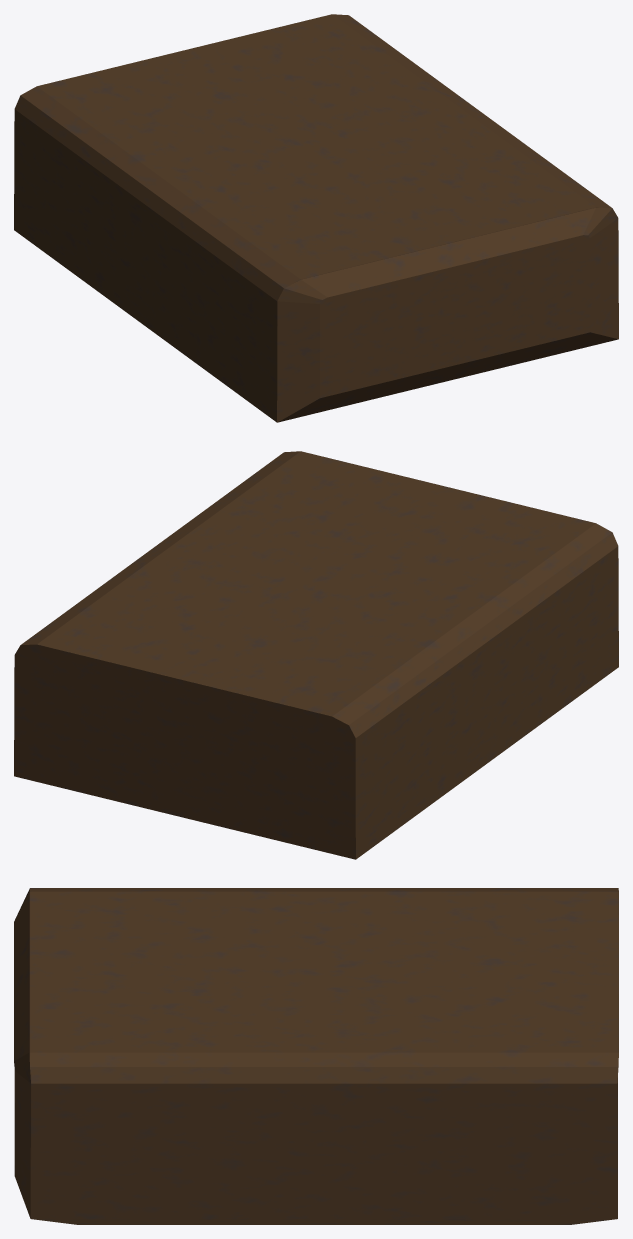
Rendered from DirtPlat(E).fbx.
The picture shows the model from 3 angles, top to bottom: view 1: azimuth 30°, elevation 25°; view 2: azimuth 150°, elevation 25°; view 3: azimuth 270°, elevation 25°; orthographic projection. The views are drawn at different scales.
Parts seen in each view (by area): view 1: DirtPlat(E); view 2: DirtPlat(E); view 3: DirtPlat(E).
Boxes of the visible parts, <box> form: DirtPlat(E): <box>14,14,618,422</box>; DirtPlat(E): <box>14,451,618,859</box>; DirtPlat(E): <box>14,888,618,1224</box>.
Bounding box in the file's own units: 389 × 190 × 534.
Materials: 1 (1 with a texture image).
